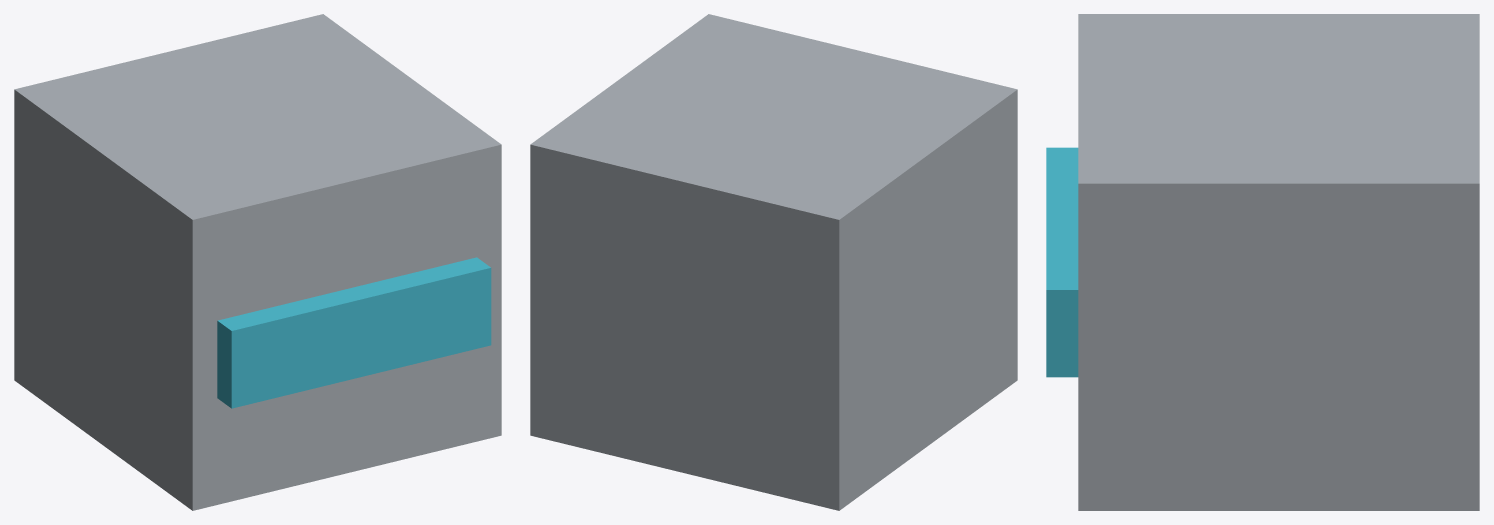
The model's file is head_line.glb.
3 views of the same model, side by side, from view 1: azimuth 30°, elevation 25°; view 2: azimuth 150°, elevation 25°; view 3: azimuth 270°, elevation 25° (orthographic). The views are drawn at different scales.
Parts seen in each view (by area): view 1: geometry_0, geometry_1; view 2: geometry_0; view 3: geometry_0, geometry_1.
Part boxes in pixels (x1,y1,x2,y2): geometry_0: [14, 14, 501, 510]; geometry_1: [217, 257, 491, 408]; geometry_0: [530, 14, 1017, 510]; geometry_0: [1078, 14, 1479, 510]; geometry_1: [1046, 147, 1078, 377].
Size of the model in its own units: 0.5 by 0.45 by 0.54.
